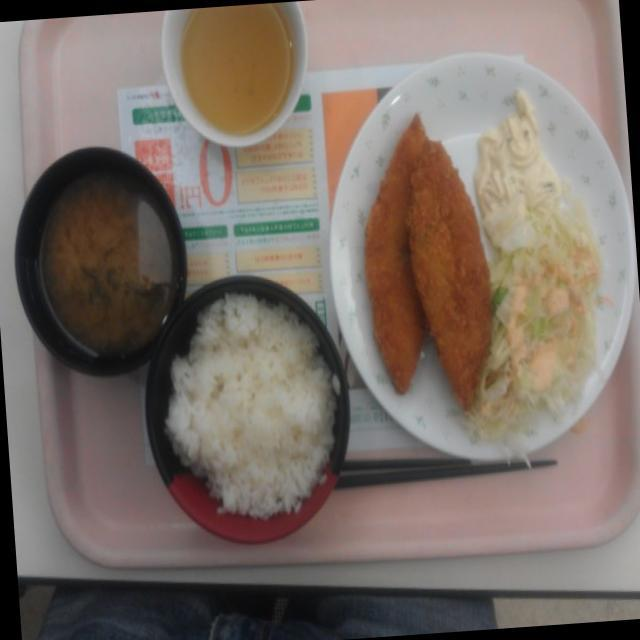Rice: (162, 288, 334, 533)
